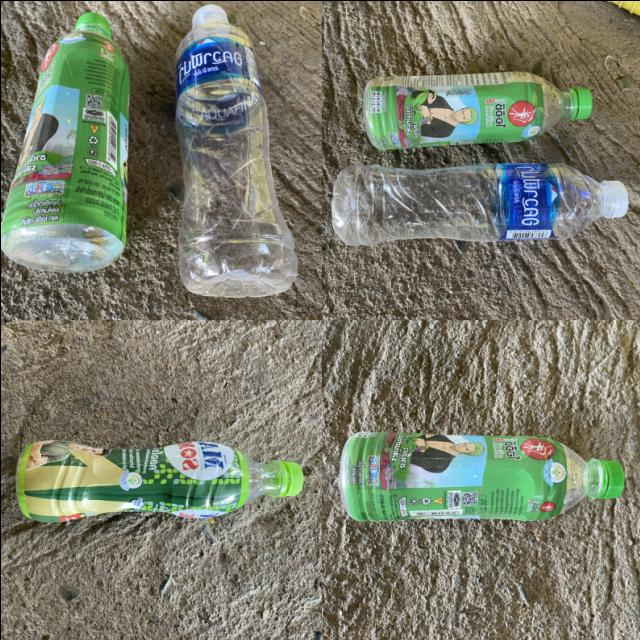plastik: (175, 3, 297, 297), (0, 12, 128, 271), (338, 431, 624, 521), (331, 163, 627, 245), (16, 440, 302, 521), (362, 71, 590, 147)
